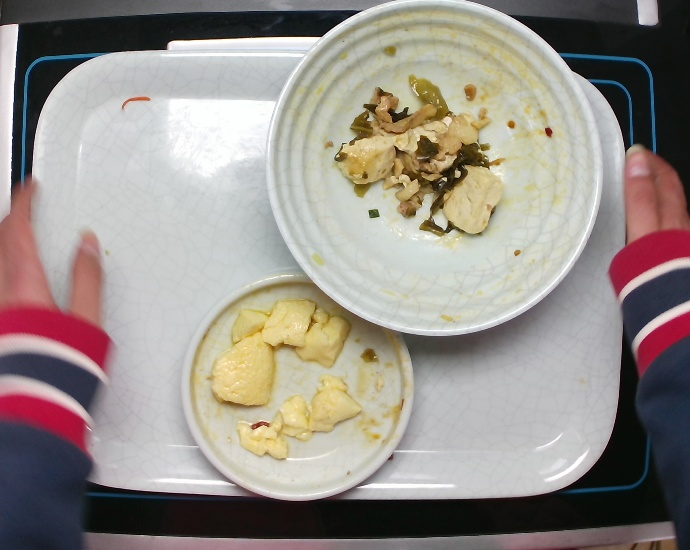JYsf-Da_Tang_Wan: (263, 1, 606, 339)
JYsf-Xiao_Yuan_Pan: (178, 268, 418, 505)
